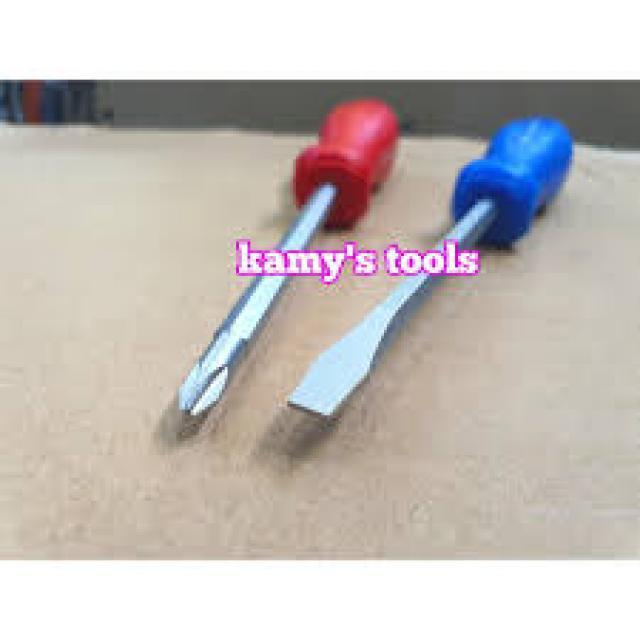screwdriver: (283, 112, 576, 428), (166, 98, 397, 428)
